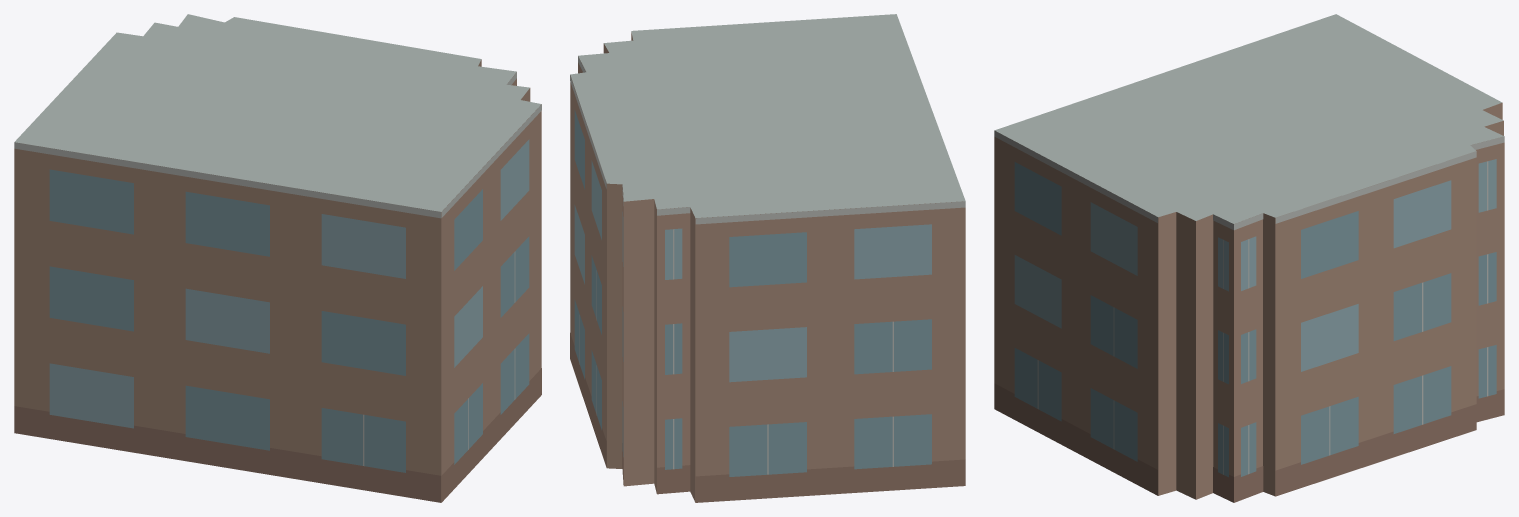
The model's file is survey-upis-32740780.glb.
The picture shows the model from 3 angles, left to right: view 1: azimuth 30°, elevation 25°; view 2: azimuth 150°, elevation 25°; view 3: azimuth 270°, elevation 25°; orthographic projection. The views are drawn at different scales.
Parts seen in each view (by area): view 1: survey-upis-32740780.tmp; view 2: survey-upis-32740780.tmp; view 3: survey-upis-32740780.tmp.
Boxes of the visible parts, bbox=[...] form: survey-upis-32740780.tmp: bbox=[14, 14, 541, 502]; survey-upis-32740780.tmp: bbox=[570, 14, 965, 502]; survey-upis-32740780.tmp: bbox=[994, 14, 1504, 502].
Size of the model in its own units: 17.79 by 11 by 18.25.
